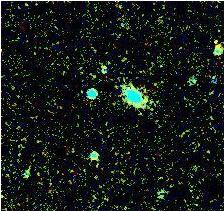star: (92, 49, 122, 79)
